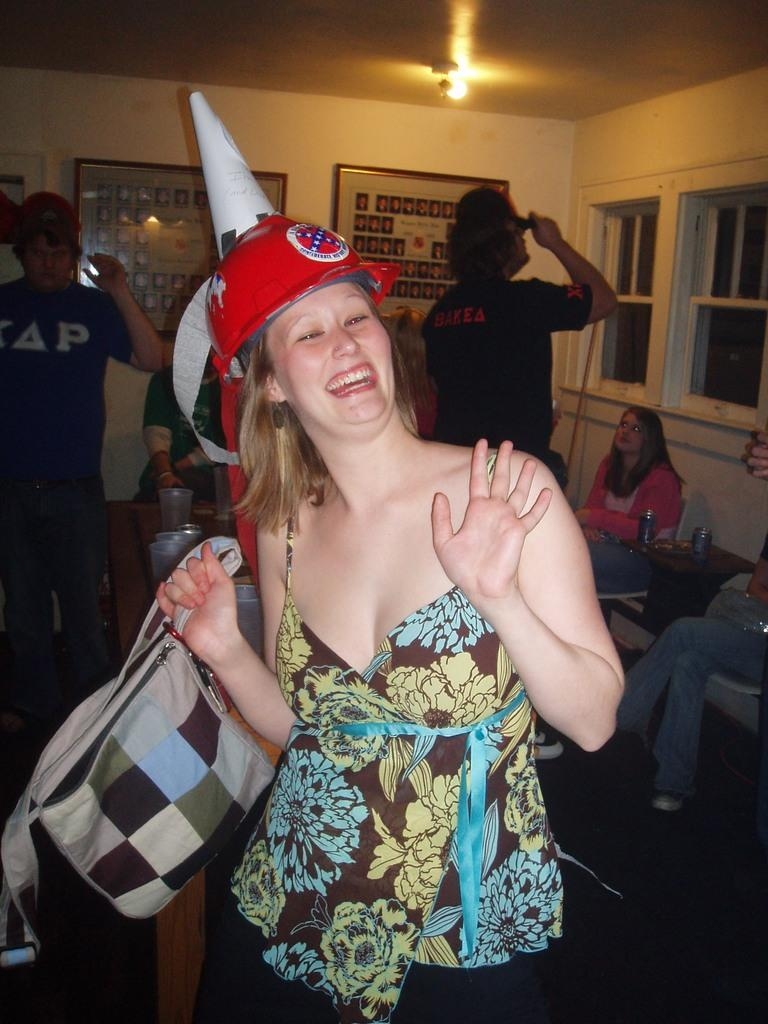Hat: (176, 92, 285, 468)
